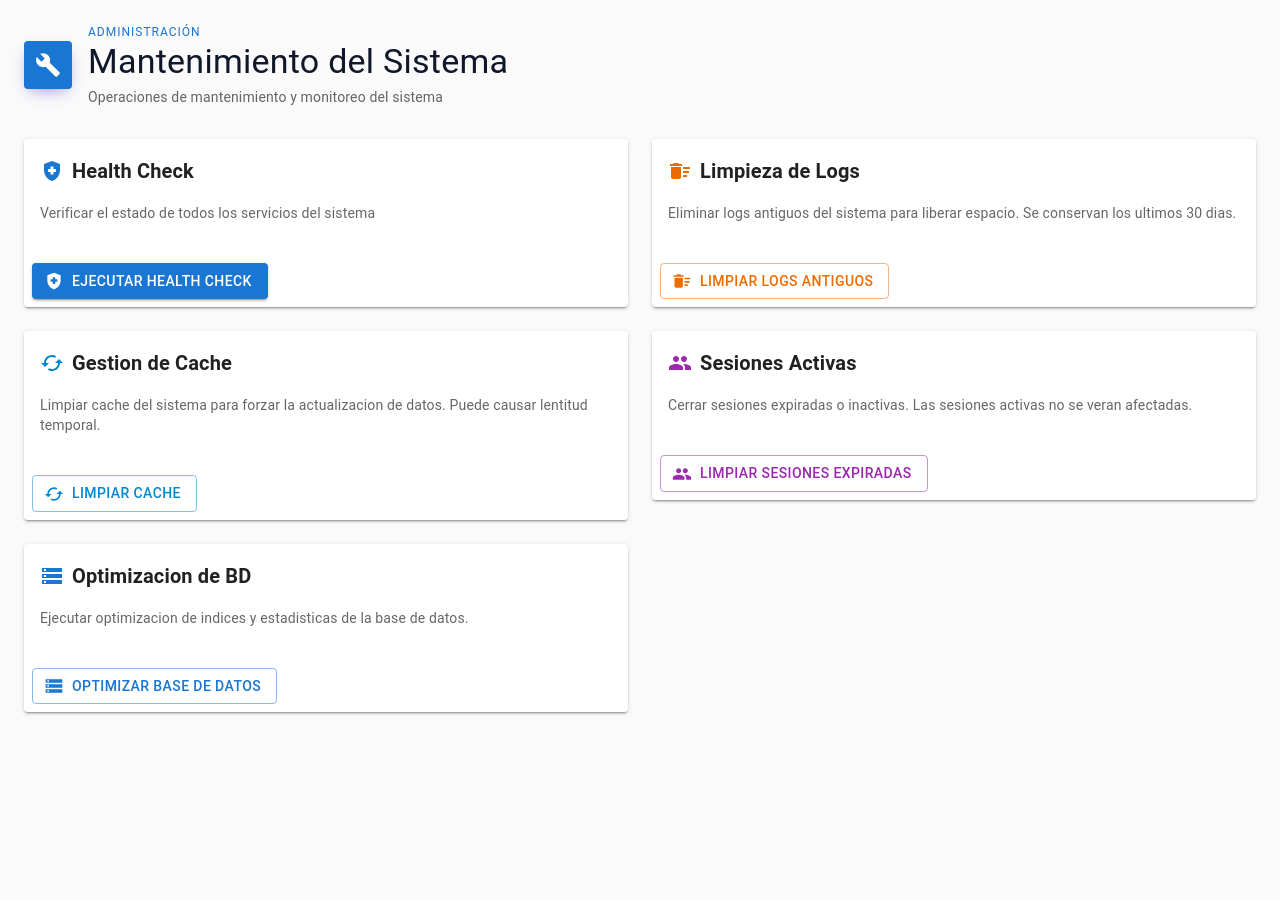
Test case: AdminMaintenance › should show confirmation dialog when clicking log cleanup
The image size is (1280, 900).
Click the button "Limpiar Logs Antiguos" at (775, 281), box 660,263 -> 889,299
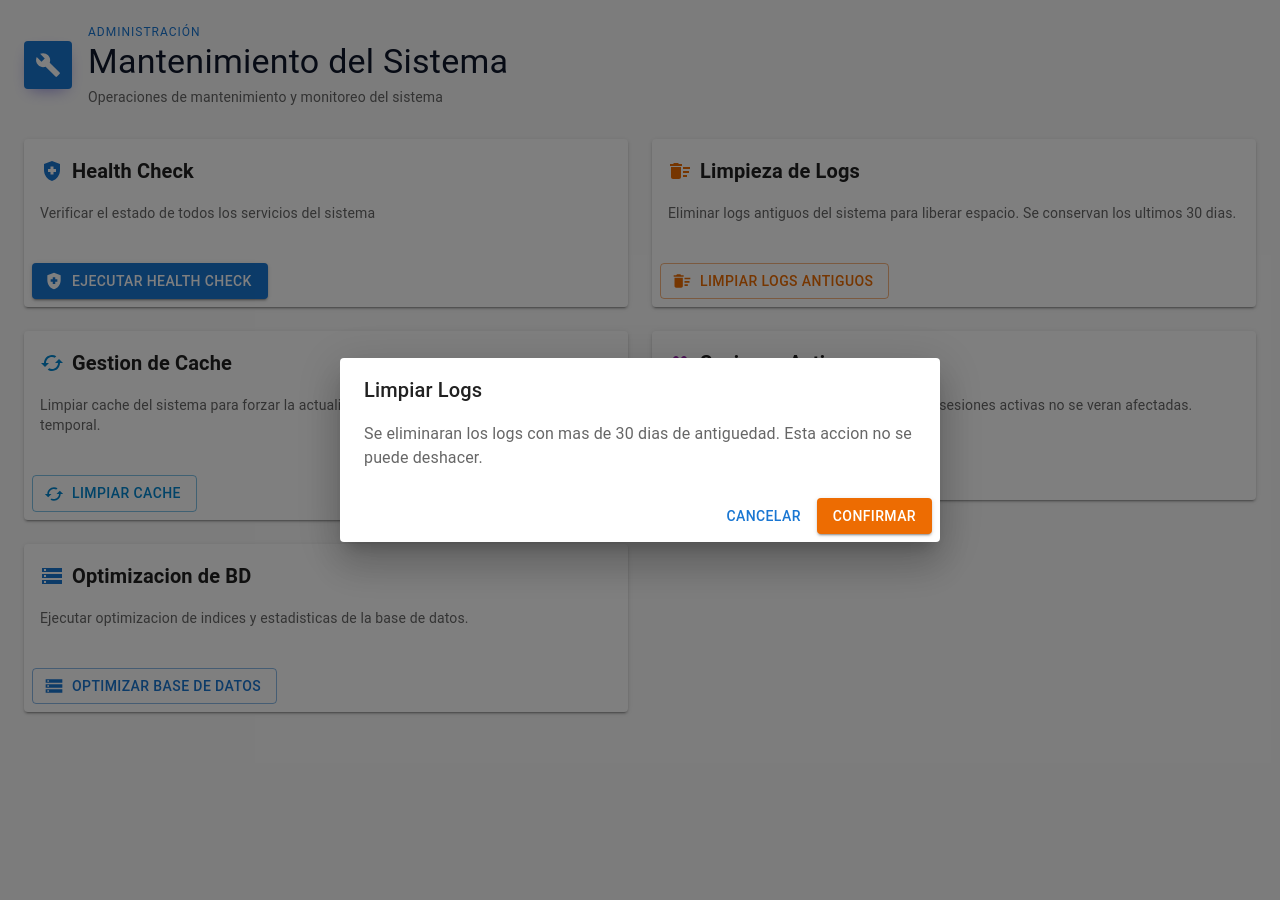
Expected: the heading "Limpiar Logs" is shown, 364,378 -> 482,402
Expected: the text "Se eliminaran los logs" is shown, 364,424 -> 912,467
Expected: the button "Confirmar" is shown, 817,498 -> 932,534
